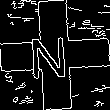N_N: (34, 29, 76, 81)
